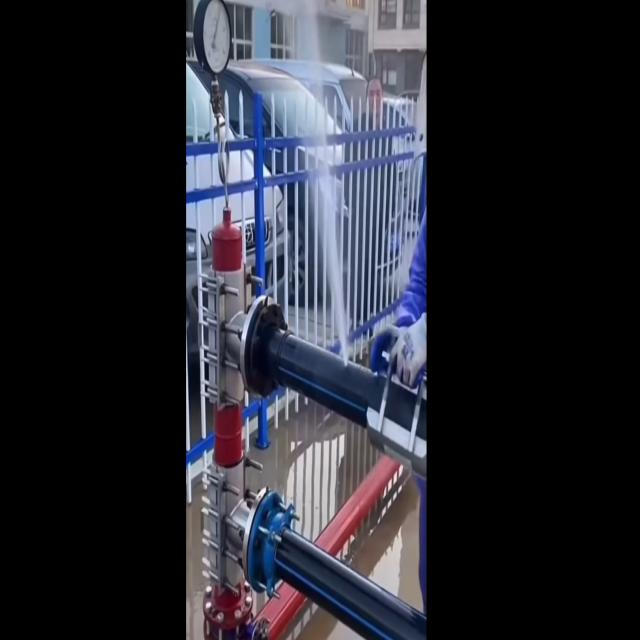leak: (319, 158, 349, 362)
